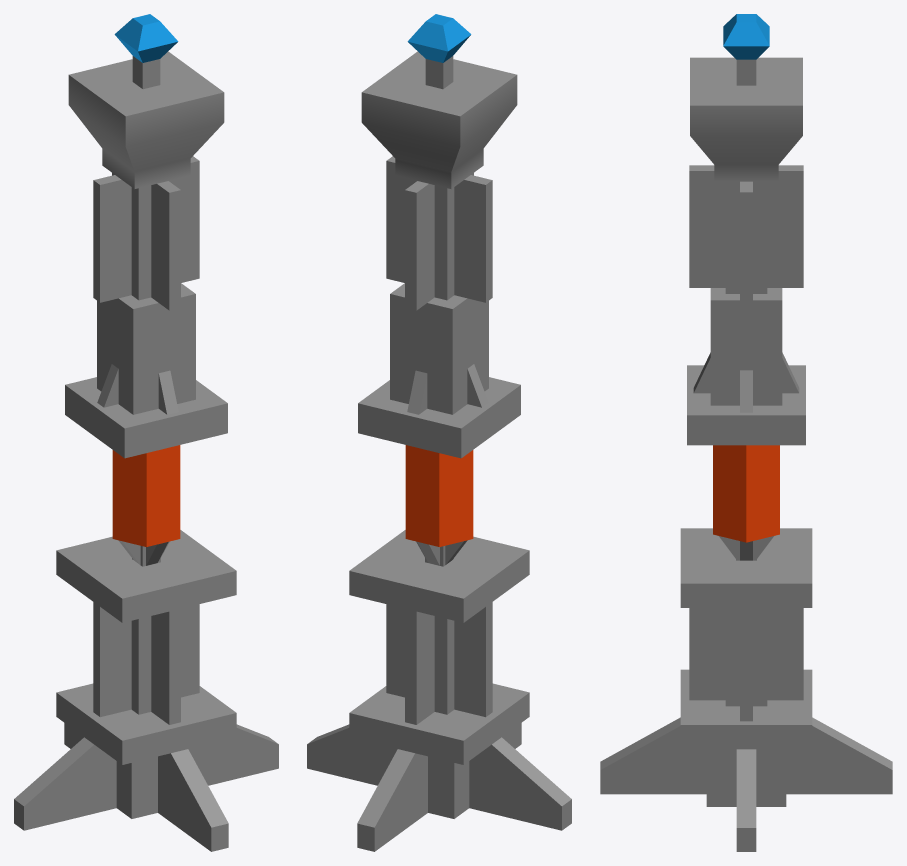
File: pole_low.FBX
The picture shows the model from 3 angles, left to right: view 1: azimuth 30°, elevation 25°; view 2: azimuth 150°, elevation 25°; view 3: azimuth 270°, elevation 25°; orthographic projection.
Parts seen in each view (by area): view 1: pole_low; view 2: pole_low; view 3: pole_low.
Boxes of the visible parts, box(x1,y1,x2,y2) form: pole_low: box(14, 14, 278, 851); pole_low: box(307, 14, 571, 851); pole_low: box(600, 14, 892, 851).
Bounding box in the file's own units: 2197 × 6394 × 2197.
